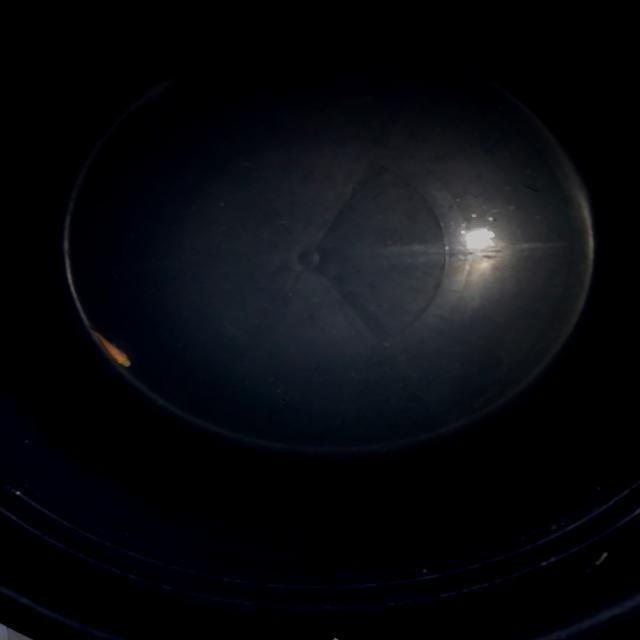nila: (84, 326, 134, 370)
